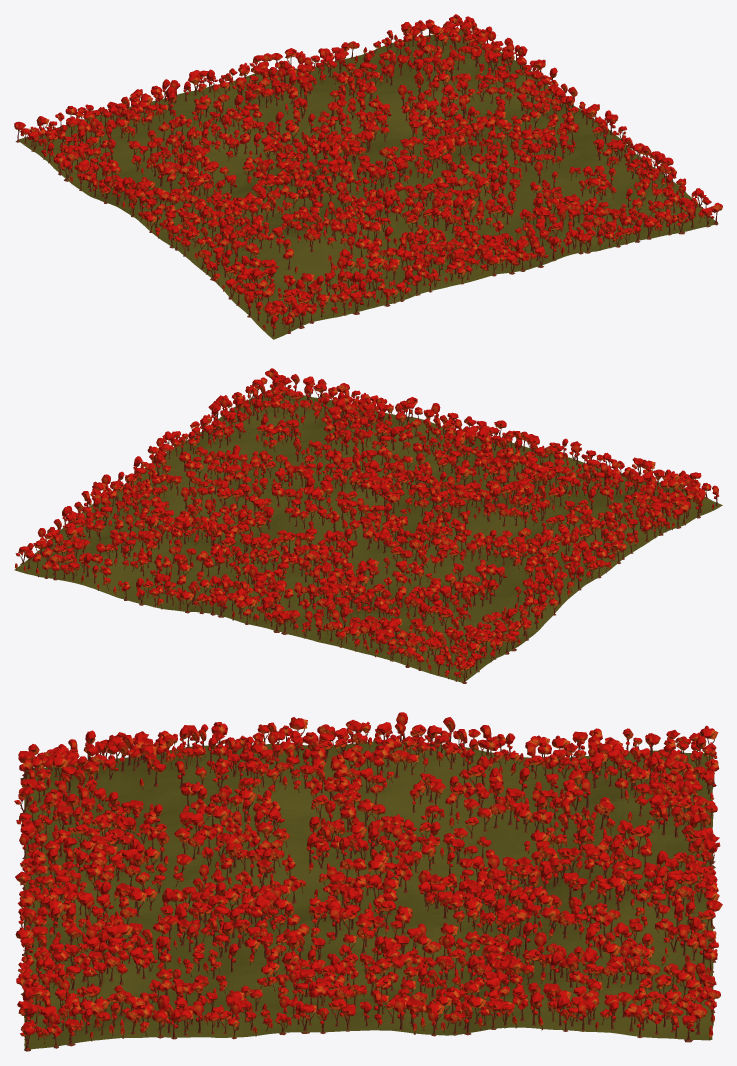
File: Medžiai.glb
The picture shows the model from 3 angles, top to bottom: view 1: azimuth 30°, elevation 25°; view 2: azimuth 150°, elevation 25°; view 3: azimuth 270°, elevation 25°; orthographic projection. The views are drawn at different scales.
Visible parts, largest first — view 1: Ground.001; view 2: Ground.001; view 3: Ground.001.
Part boxes in pixels (x1=…): Ground.001: x1=17, y1=29, x2=717, y2=339; Ground.001: x1=14, y1=389, x2=722, y2=683; Ground.001: x1=23, y1=741, x2=713, y2=1049.
Size of the model in its own units: 213 by 20.57 by 213.
